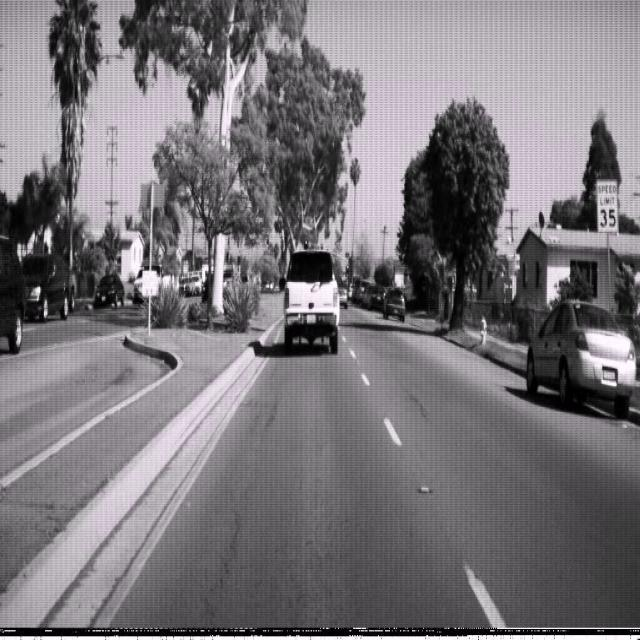speedLimit35: (596, 177, 620, 234)
